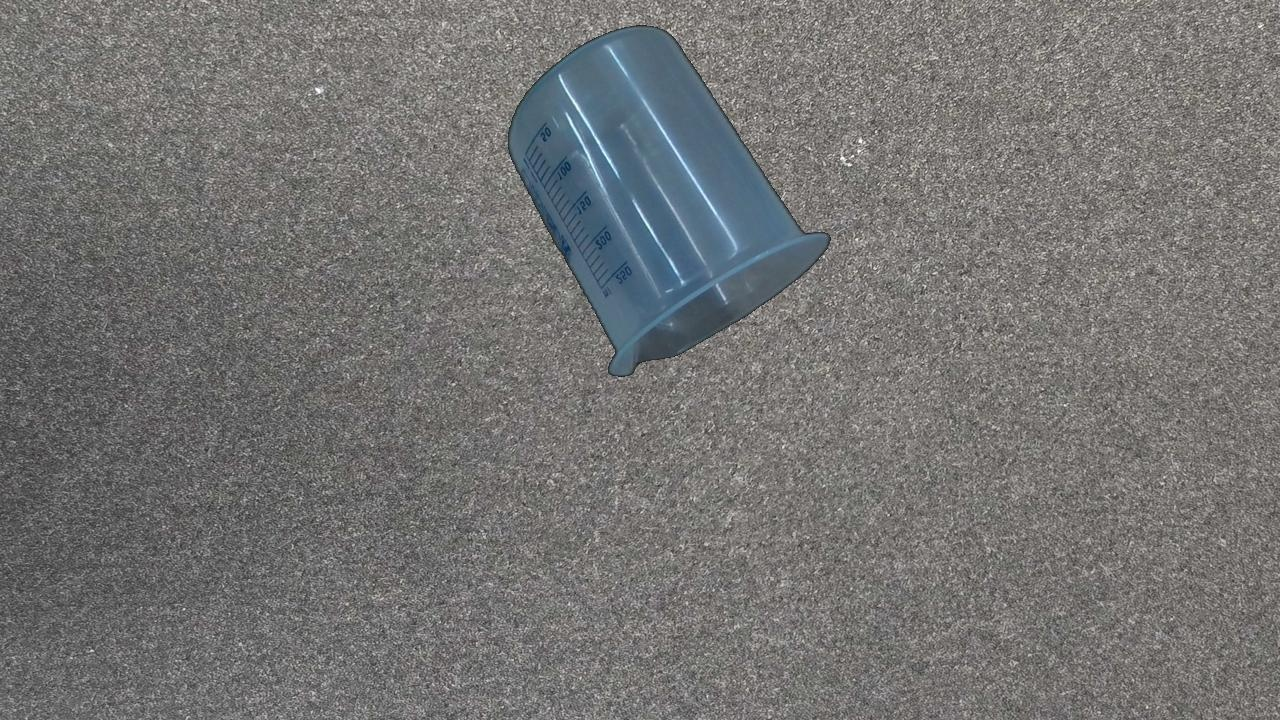cup: (504, 24, 832, 380)
